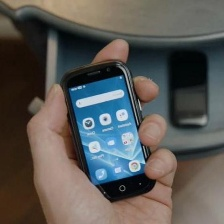phone: (53, 57, 166, 206), (163, 45, 213, 133)
